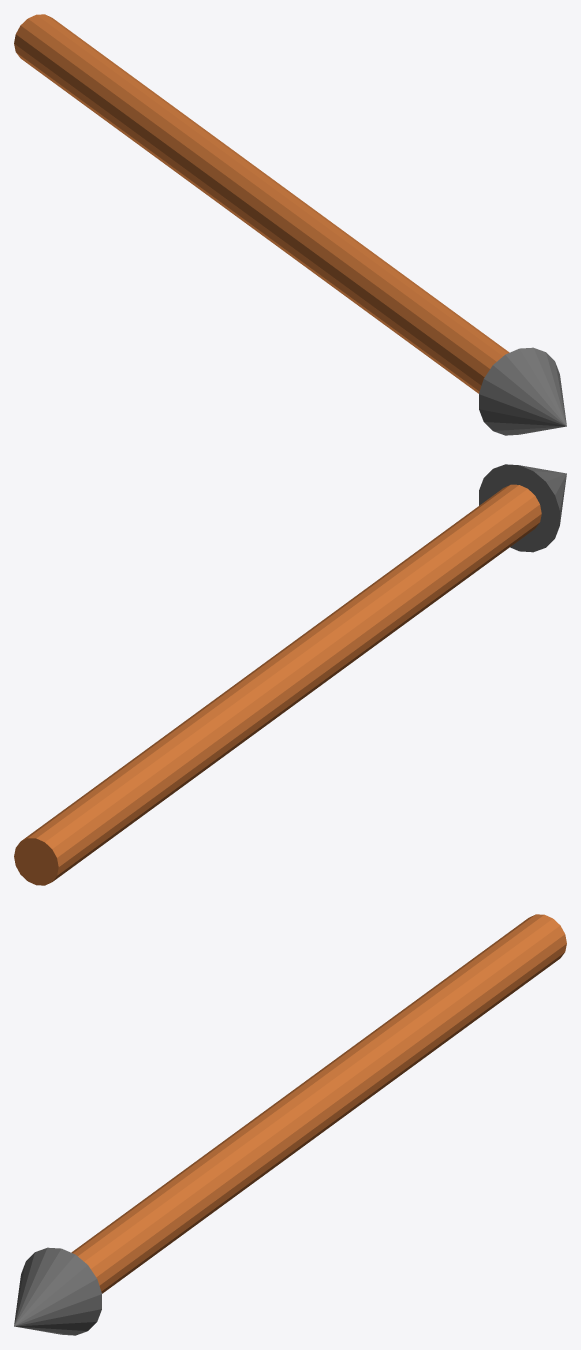
The model's file is Arrow.fbx.
The picture shows the model from 3 angles, top to bottom: view 1: azimuth 30°, elevation 25°; view 2: azimuth 150°, elevation 25°; view 3: azimuth 330°, elevation 25°; orthographic projection.
Parts seen in each view (by area): view 1: Cylinder, Cone; view 2: Cylinder, Cone; view 3: Cylinder, Cone.
Part boxes in pixels (x1,y1,x2,y2): Cylinder: [14, 14, 509, 393]; Cone: [479, 347, 566, 435]; Cylinder: [14, 484, 541, 885]; Cone: [479, 464, 566, 552]; Cylinder: [71, 914, 566, 1293]; Cone: [14, 1247, 101, 1335].
Bounding box in the file's own units: 56.53 × 57.4 × 640.
